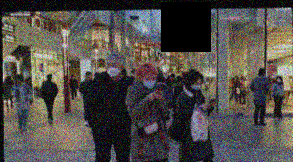with_mask: (104, 60, 121, 77), (141, 74, 157, 89), (190, 80, 202, 90), (275, 76, 281, 82), (70, 74, 74, 78)
without_mask: (86, 73, 93, 79), (168, 75, 175, 81), (15, 77, 21, 83)
